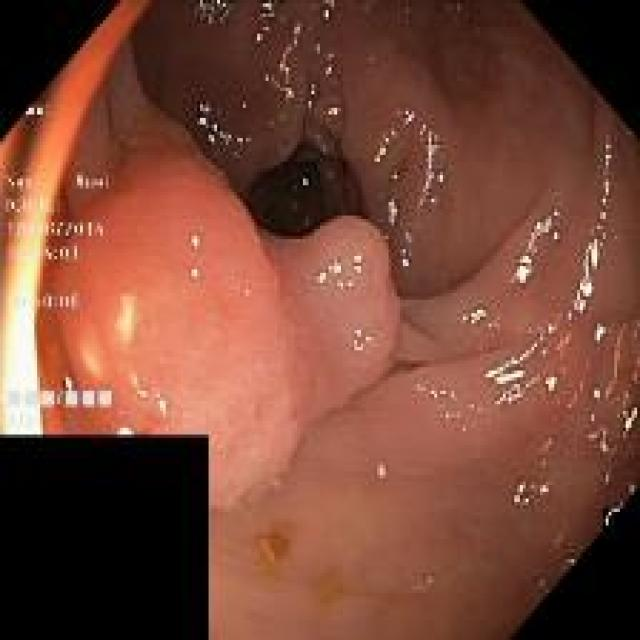Polyps: (39, 134, 401, 508)
